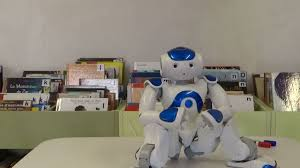nao: (125, 38, 283, 168)
